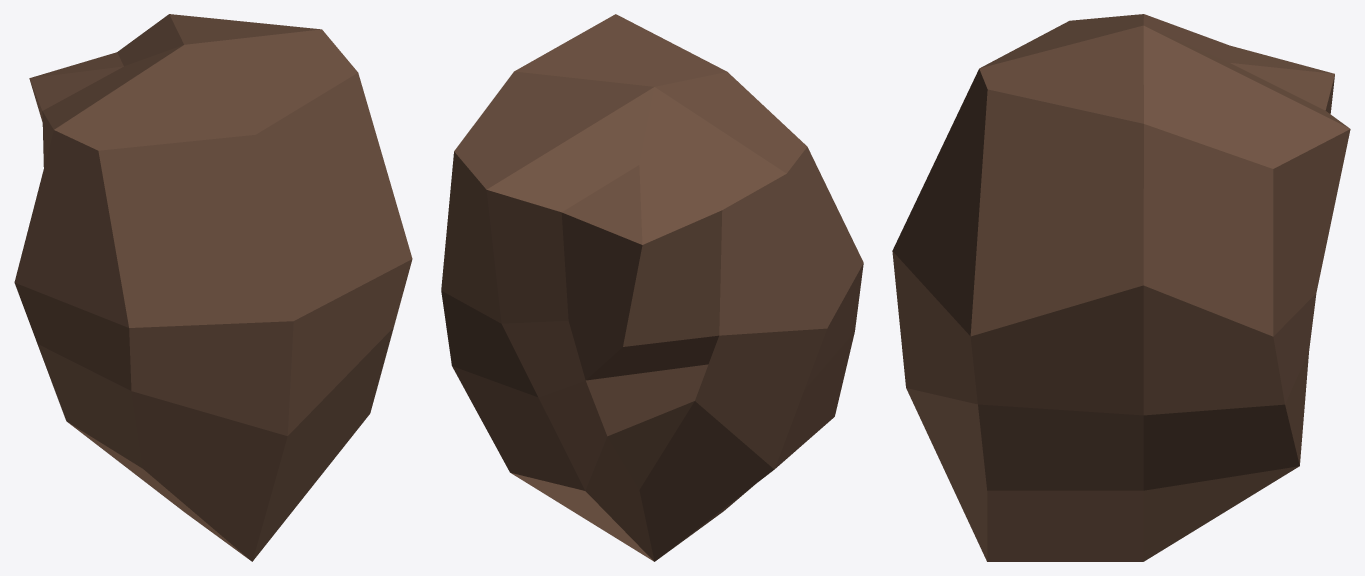
The model's file is farLands03.fbx.
3 views of the same model, side by side, from view 1: azimuth 30°, elevation 25°; view 2: azimuth 150°, elevation 25°; view 3: azimuth 270°, elevation 25° (orthographic). The views are drawn at different scales.
Parts seen in each view (by area): view 1: rock; view 2: rock; view 3: rock.
Part boxes in pixels (bbox=[...]): rock: bbox=[14, 14, 412, 561]; rock: bbox=[441, 14, 863, 561]; rock: bbox=[892, 14, 1350, 561].
Bounding box in the file's own units: 9985 × 12463 × 9648.
